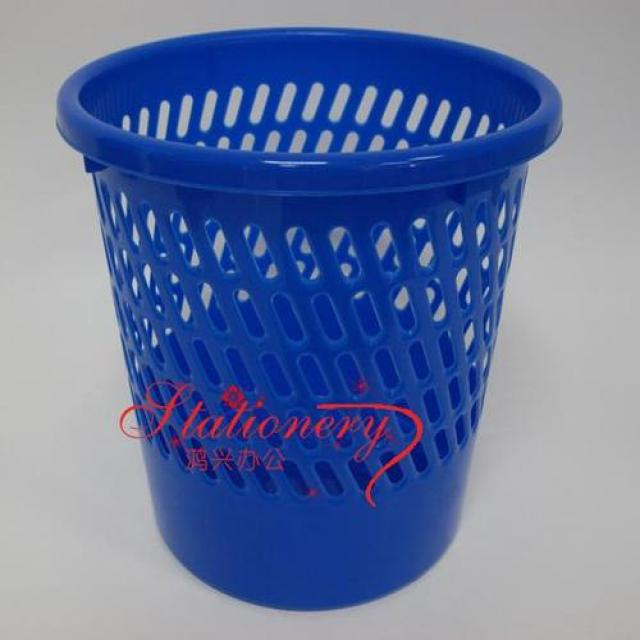dustbin: (56, 24, 569, 616)
